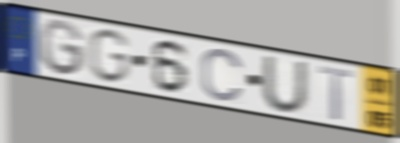6: (151, 38, 191, 95)
C: (200, 46, 246, 104)
G: (38, 17, 86, 79), (87, 27, 132, 86)
T: (317, 63, 355, 124)
U: (261, 54, 311, 117)
